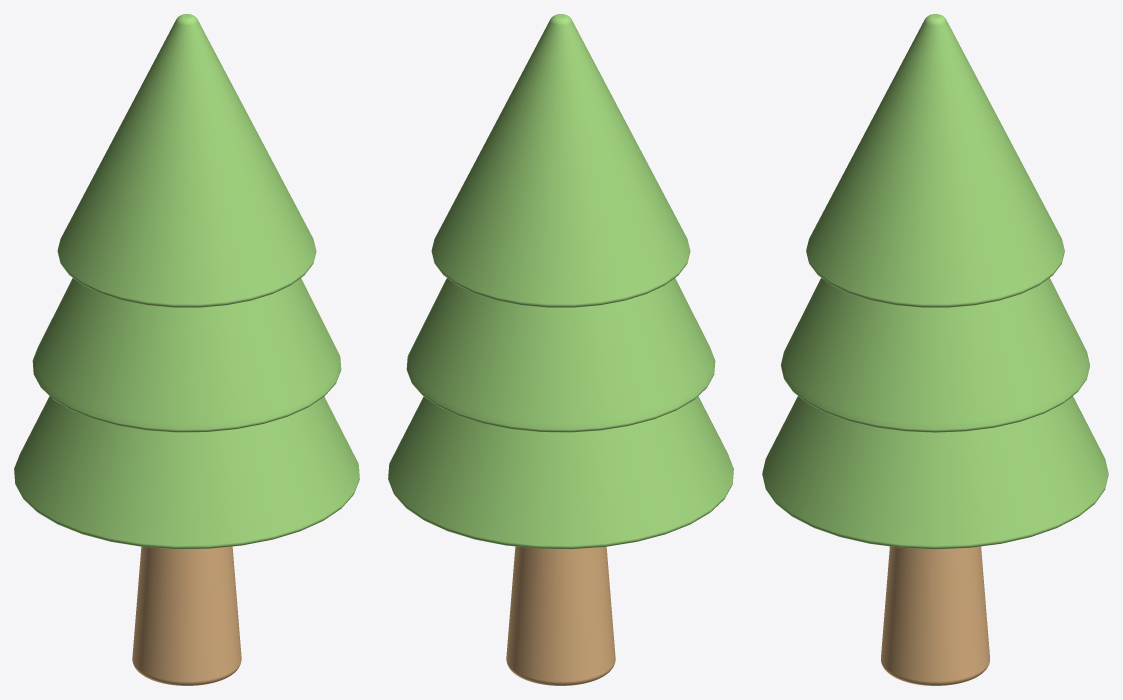
The model's file is tree.gltf.
The picture shows the model from 3 angles, left to right: view 1: azimuth 30°, elevation 25°; view 2: azimuth 150°, elevation 25°; view 3: azimuth 270°, elevation 25°; orthographic projection.
Parts seen in each view (by area): view 1: Cone 3, Cone, Cone 2, trunk; view 2: Cone 3, Cone, Cone 2, trunk; view 3: Cone 3, Cone, Cone 2, trunk.
Boxes of the visible parts, x1,y1,x2,y2 form: Cone 3: [57, 14, 316, 307]; Cone: [14, 396, 359, 549]; Cone 2: [32, 278, 341, 432]; trunk: [132, 546, 241, 685]; Cone 3: [431, 14, 690, 307]; Cone: [388, 396, 733, 549]; Cone 2: [406, 278, 715, 432]; trunk: [506, 546, 615, 685]; Cone 3: [806, 14, 1064, 307]; Cone: [762, 396, 1108, 549]; Cone 2: [781, 278, 1089, 432]; trunk: [881, 546, 989, 685].
Bounding box in the file's own units: 1.98 × 4.09 × 1.98.
